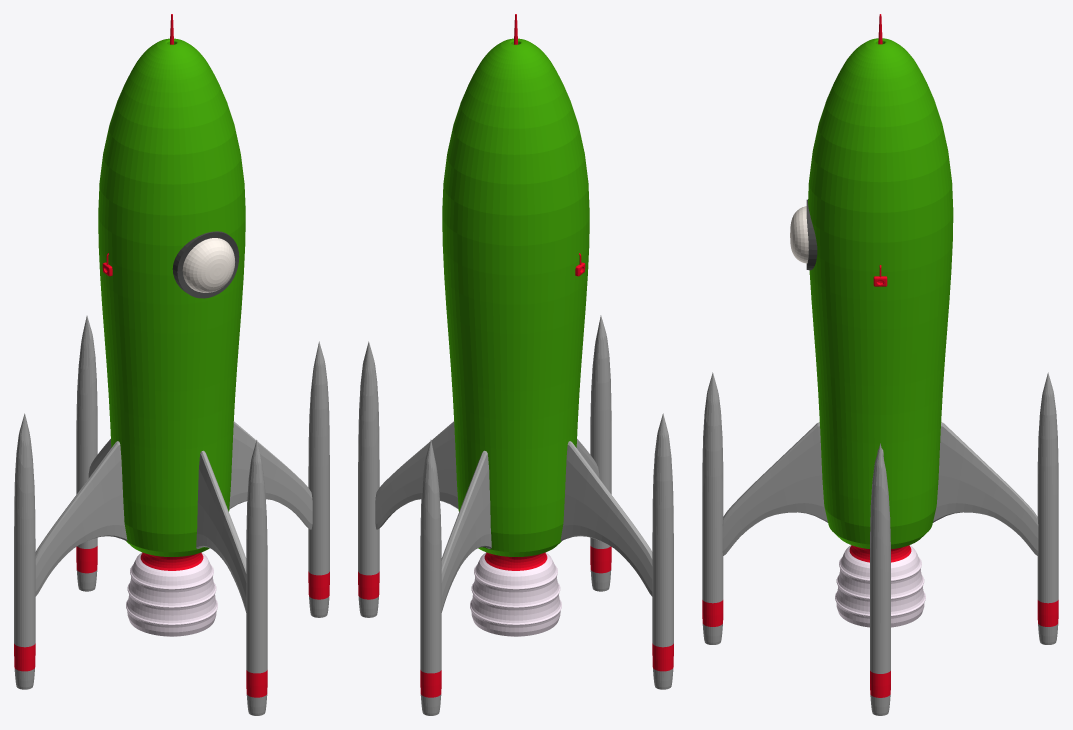
The model's file is rocket_model8_.fbx.
3 views of the same model, side by side, from view 1: azimuth 30°, elevation 25°; view 2: azimuth 150°, elevation 25°; view 3: azimuth 270°, elevation 25° (orthographic).
Parts seen in each view (by area): view 1: Cylinder, Cylinder.003, Cylinder.002, Cylinder.001, Cylinder.004, Sphere; view 2: Cylinder, Cylinder.003, Cylinder.002, Cylinder.004, Cylinder.001; view 3: Cylinder, Cylinder.001, Cylinder.004, Cylinder.002, Sphere.
Part boxes in pixels (<box>): Cylinder: <box>98,38,245,636</box>; Cylinder.003: <box>14,413,127,689</box>; Cylinder.002: <box>229,341,329,617</box>; Cylinder.001: <box>196,440,267,715</box>; Cylinder.004: <box>76,315,111,591</box>; Sphere: <box>172,231,239,298</box>; Cylinder: <box>442,38,589,636</box>; Cylinder.003: <box>560,413,673,689</box>; Cylinder.002: <box>358,341,458,617</box>; Cylinder.004: <box>420,440,491,715</box>; Cylinder.001: <box>576,315,611,591</box>; Cylinder: <box>808,38,953,627</box>; Cylinder.001: <box>702,372,827,644</box>; Cylinder.004: <box>933,372,1058,644</box>; Cylinder.002: <box>870,443,890,715</box>; Sphere: <box>790,199,817,270</box>.
Size of the model in its own units: 611 by 1188 by 611.
